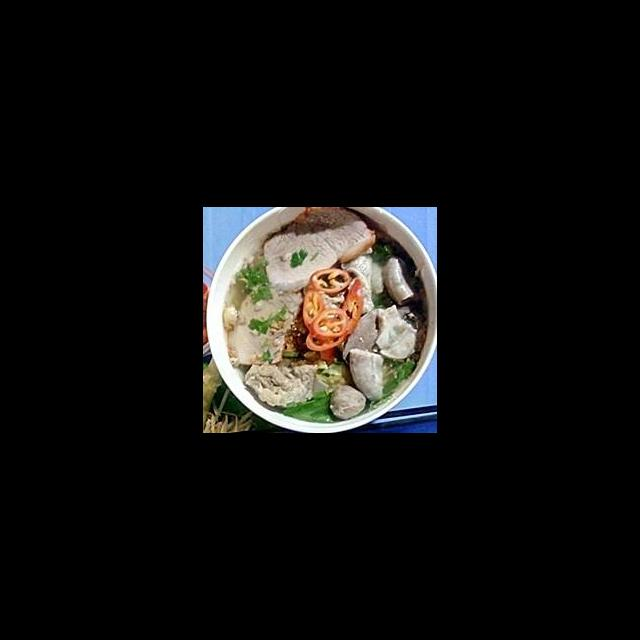thit heo: (260, 217, 380, 296), (222, 277, 308, 369), (239, 360, 324, 410)
